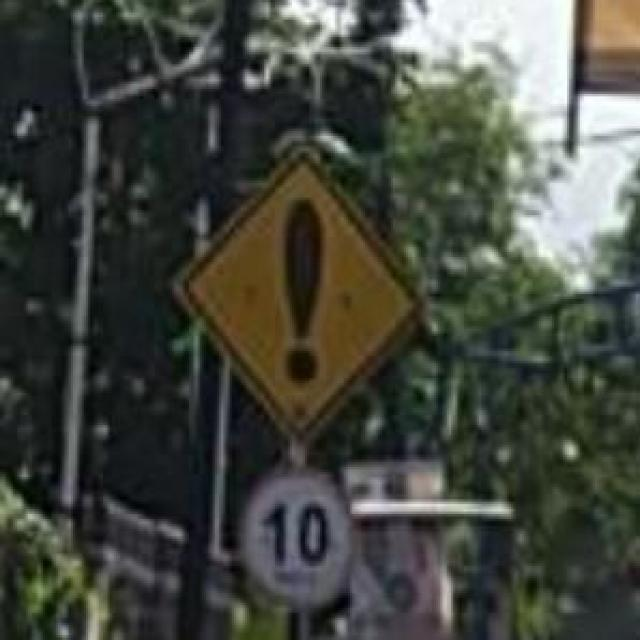traffic sign: (178, 161, 430, 445)
